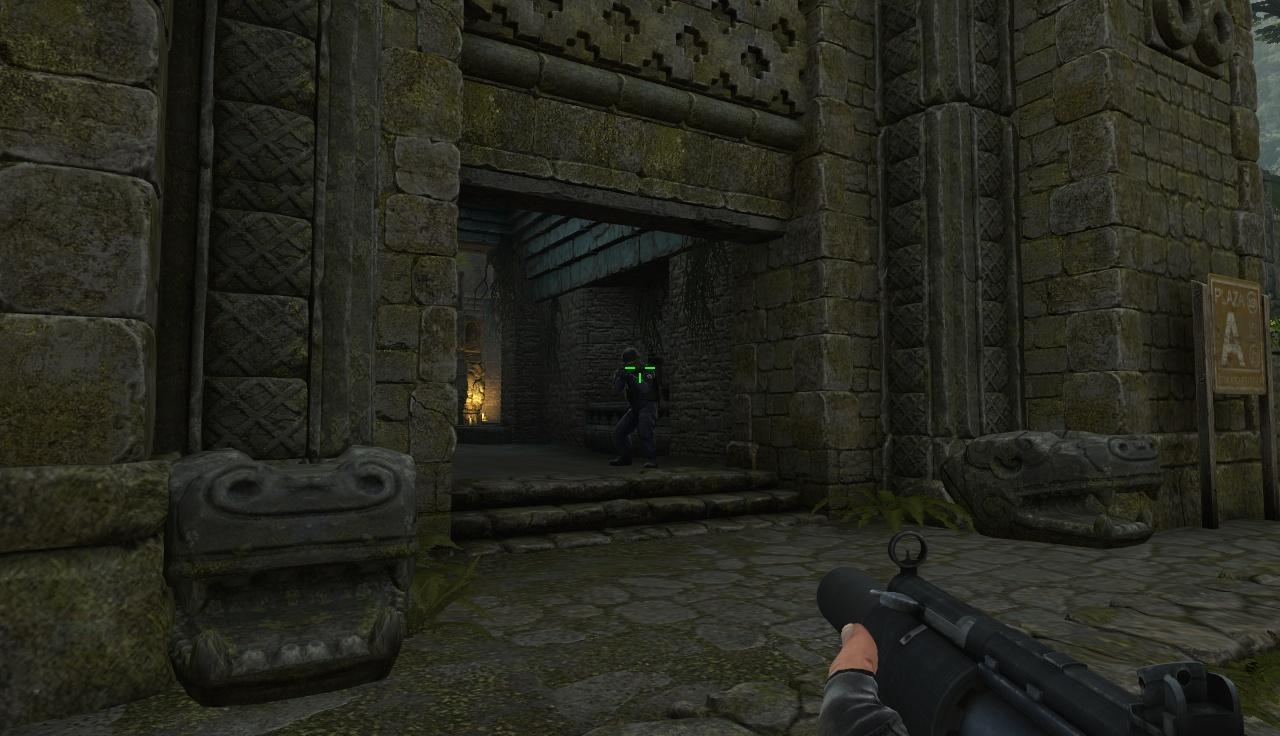ct: (613, 348, 654, 471)
cthead: (625, 349, 645, 374)
rifle: (822, 534, 1280, 736)
